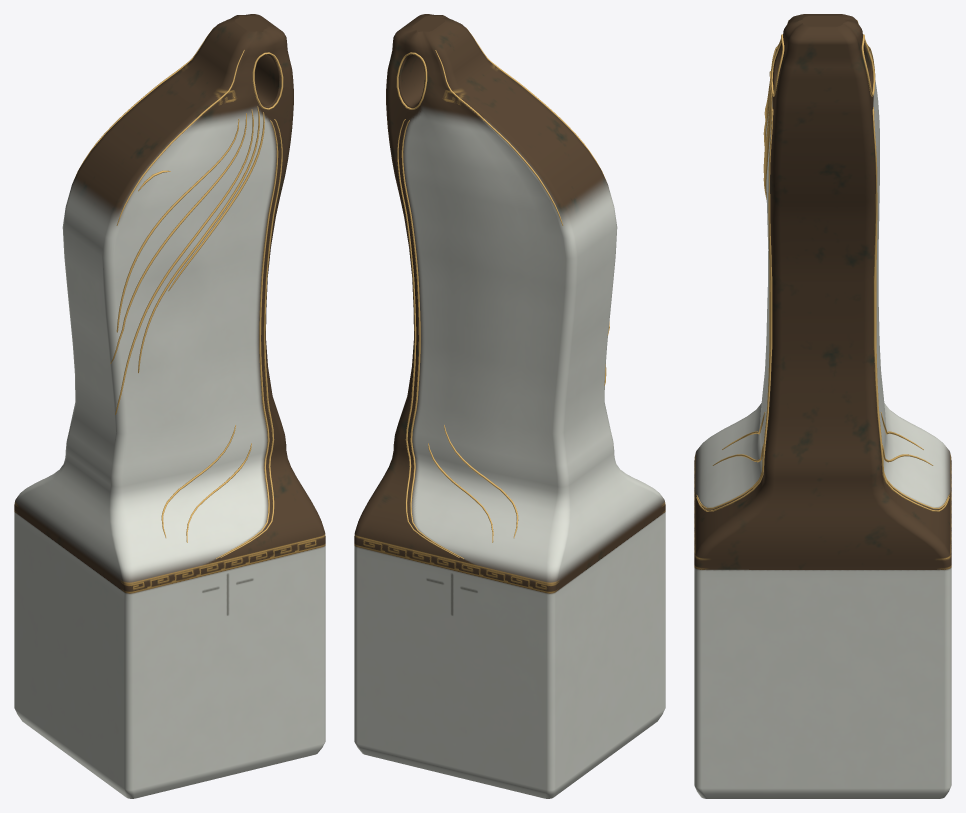
The model's file is QingGuiR02.glb.
3 views of the same model, side by side, from view 1: azimuth 30°, elevation 25°; view 2: azimuth 150°, elevation 25°; view 3: azimuth 270°, elevation 25° (orthographic). The views are drawn at different scales.
Visible parts, largest first — view 1: QingGuiR02_Body_LOD0, QingGuiR02_GoldWire_LOD0; view 2: QingGuiR02_Body_LOD0, QingGuiR02_GoldWire_LOD0; view 3: QingGuiR02_Body_LOD0, QingGuiR02_GoldWire_LOD0.
Boxes of the visible parts, <box> form: QingGuiR02_Body_LOD0: <box>14,14,325,798</box>; QingGuiR02_GoldWire_LOD0: <box>74,27,283,558</box>; QingGuiR02_Body_LOD0: <box>354,14,665,798</box>; QingGuiR02_GoldWire_LOD0: <box>396,27,609,558</box>; QingGuiR02_Body_LOD0: <box>694,14,951,798</box>; QingGuiR02_GoldWire_LOD0: <box>696,20,949,511</box>.
Bounding box in the file's own units: 0.1095 × 0.35 × 0.1061.
2 materials, 1 textured.
